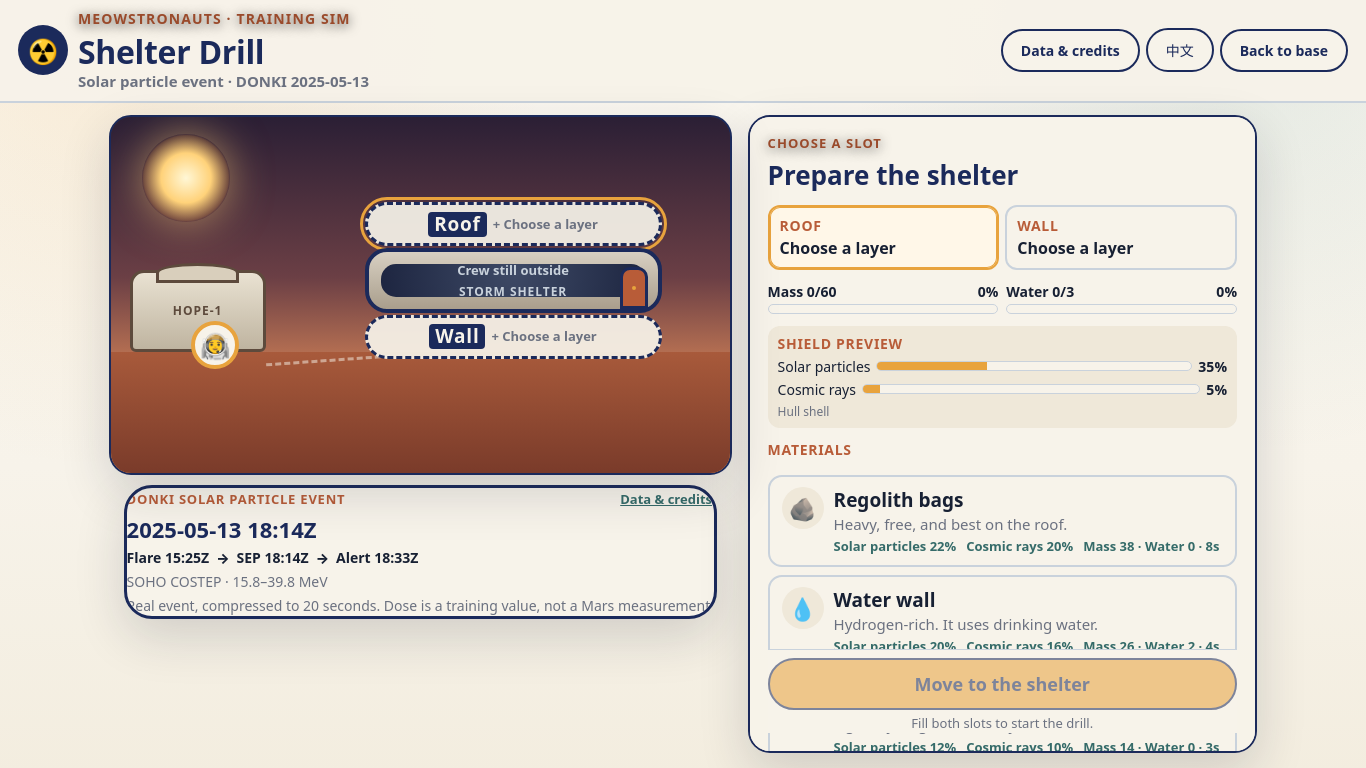
ShelterDrill › disables a layer that would exceed the mass budget
Click the button with test id "material-regolith" at (1002, 521), box [768,475,1237,567]
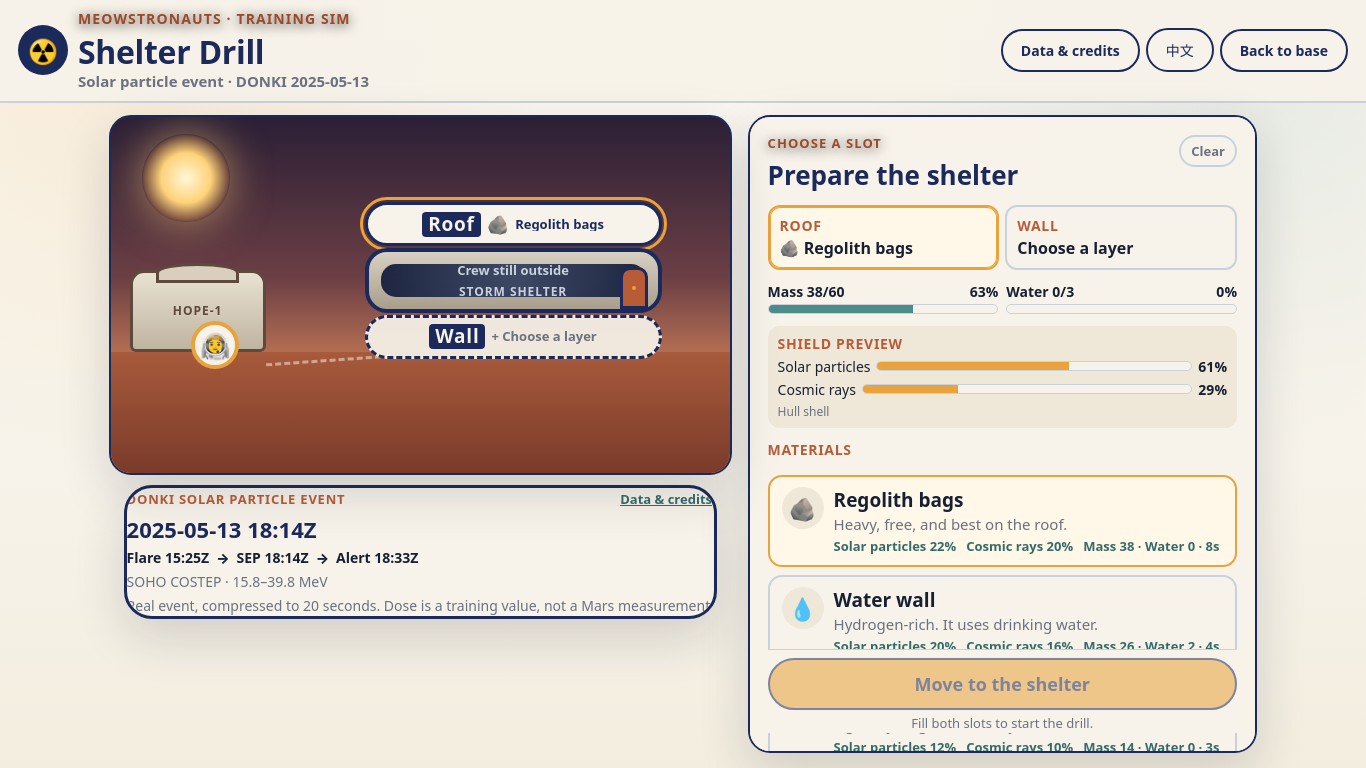
Click the button with test id "shelter-select-wall" at (1121, 237), box [1005,205,1237,270]
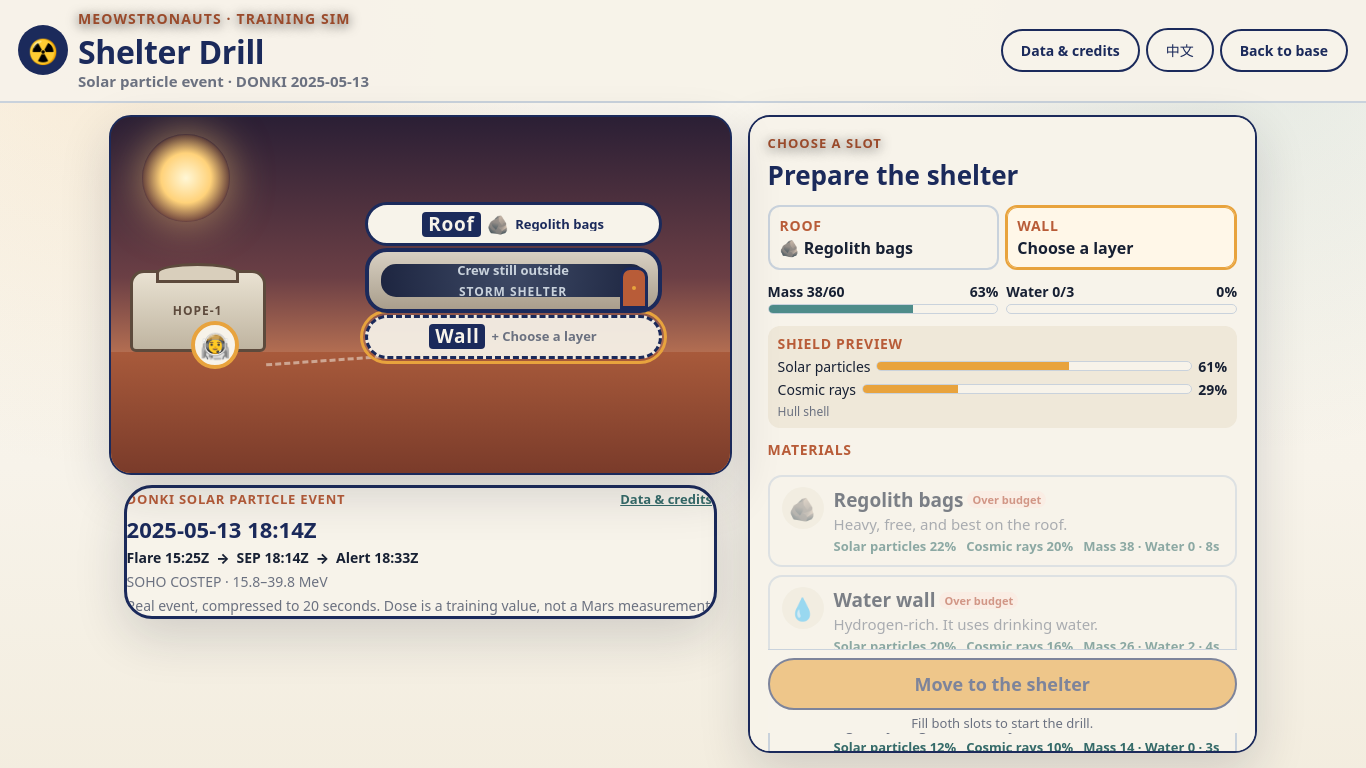
Check: the button with test id "material-polyethylene" is enabled, box [768,675,1237,753]
Check: the button with test id "material-water" is disabled, box [768,575,1237,668]
